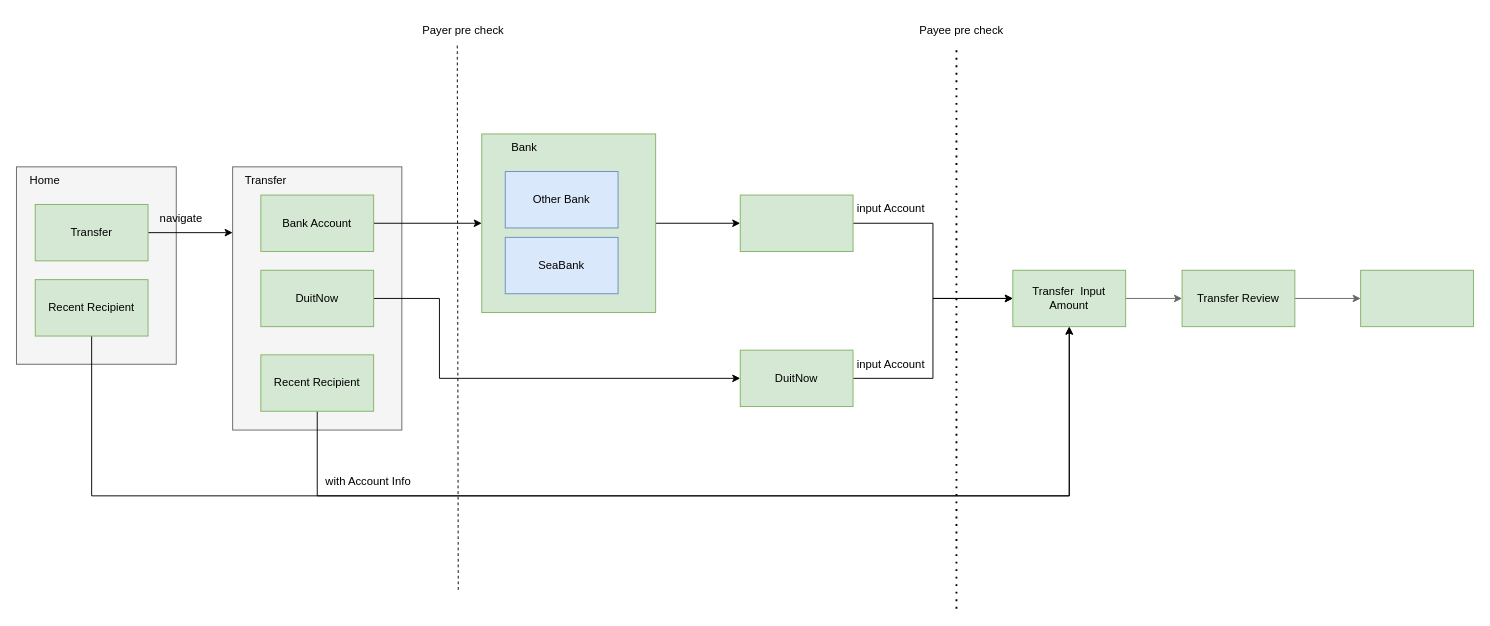
The diagram is 1490 pixels wide and 626 high, and some of its shapes have lost their labels. The shapes that lost their labels are listed below. From the top down, each one's centre as x and y in pixels, then its label:
point (796, 222): NewTransfer
point (1416, 298): Transfer Result
